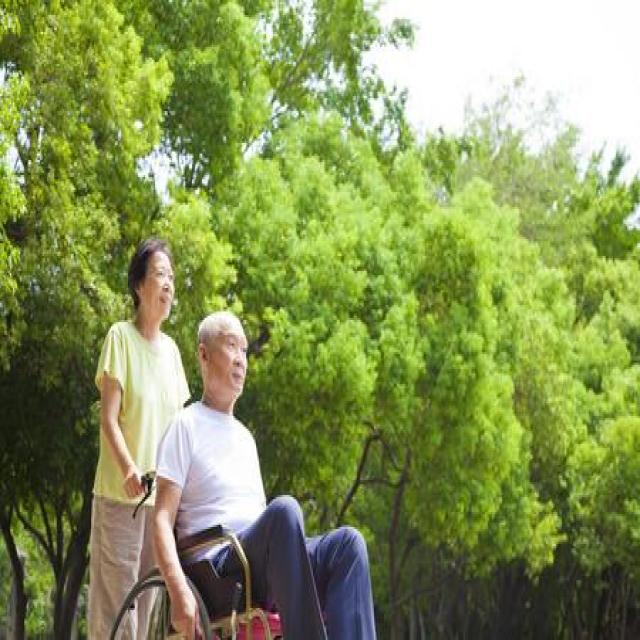wheelchairs: (98, 446, 350, 640)
